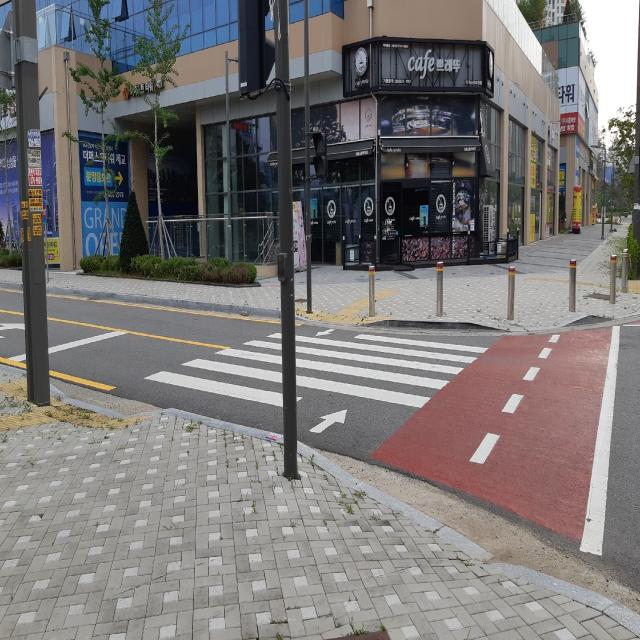횡단보도: (143, 327, 490, 434)
